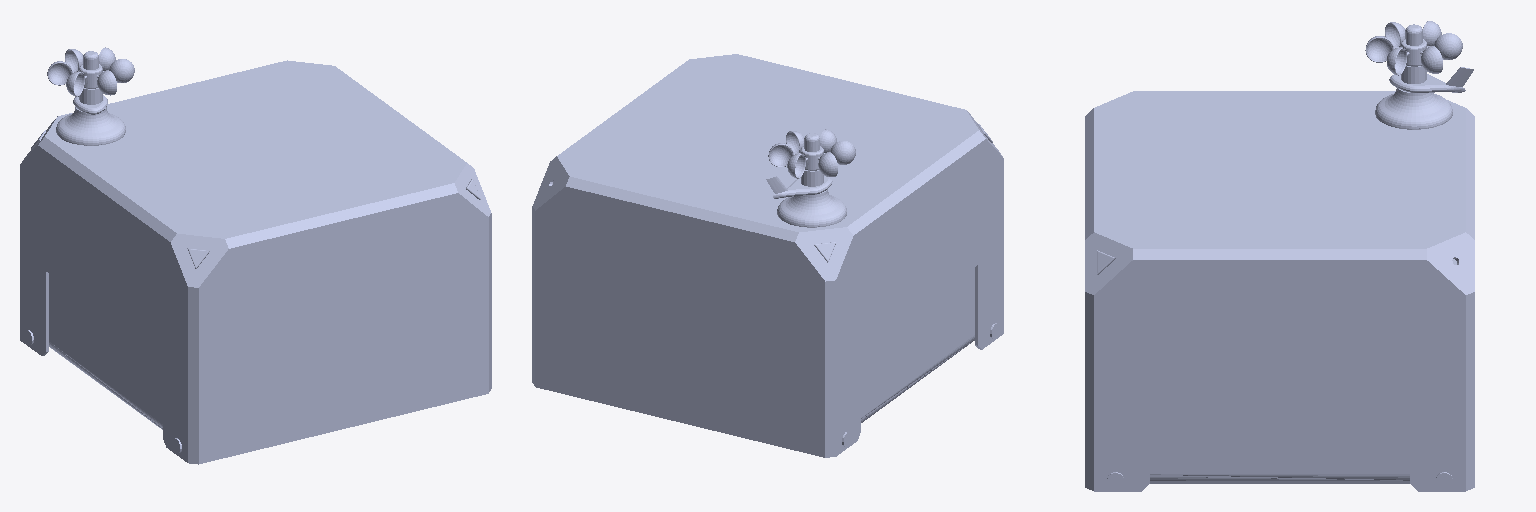
The robot description file, URDF, robot "dock_urdf":
<?xml version="1.0" encoding="utf-8"?>
<!-- This URDF was automatically created by SolidWorks to URDF Exporter! Originally created by [author] ([email redacted]) 
     Commit Version: 1.6.0-4-g7f85cfe  Build Version: 1.6.7995.38578
     For more information, please see http://wiki.ros.org/sw_urdf_exporter -->
<robot
  name="dock_urdf">
  <link
    name="dock">
    <inertial>
      <origin
        xyz="1.53098380929678E-08 1.88894907528222E-09 0.1416088635467"
        rpy="0 0 0" />
      <mass
        value="221.642063932092" />
      <inertia
        ixx="14.3888919832394"
        ixy="8.11400503361738E-06"
        ixz="2.60235410602228E-07"
        iyy="14.4493861868399"
        iyz="-4.60593986193422E-08"
        izz="25.0893812892595" />
    </inertial>
    <visual>
      <origin
        xyz="0 0 0"
        rpy="0 0 0" />
      <geometry>
        <mesh
          filename="package://dock_urdf/meshes/dock.STL" />
      </geometry>
      <material
        name="">
        <color
          rgba="0.792156862745098 0.819607843137255 0.933333333333333 1" />
      </material>
    </visual>
    <collision>
      <origin
        xyz="0 0 0"
        rpy="0 0 0" />
      <geometry>
        <mesh
          filename="package://dock_urdf/meshes/dock.STL" />
      </geometry>
    </collision>
  </link>
  <link
    name="kapak1">
    <inertial>
      <origin
        xyz="0.38071628647954 -0.0597466314752524 -5.39655762561906E-16"
        rpy="0 0 0" />
      <mass
        value="12.7677857544327" />
      <inertia
        ixx="1.56961849979609"
        ixy="0.164172475158162"
        ixz="8.88243019103634E-16"
        iyy="1.76053077830025"
        iyz="2.82445628422628E-16"
        izz="0.717480266895053" />
    </inertial>
    <visual>
      <origin
        xyz="0 0 0"
        rpy="0 0 0" />
      <geometry>
        <mesh
          filename="package://dock_urdf/meshes/kapak1.STL" />
      </geometry>
      <material
        name="">
        <color
          rgba="0.792156862745098 0.819607843137255 0.933333333333333 1" />
      </material>
    </visual>
    <collision>
      <origin
        xyz="0 0 0"
        rpy="0 0 0" />
      <geometry>
        <mesh
          filename="package://dock_urdf/meshes/kapak1.STL" />
      </geometry>
    </collision>
  </link>
  <joint
    name="kapak1j"
    type="revolute">
    <origin
      xyz="0 -0.38 0.04"
      rpy="1.5708 -1.5662 1.5708" />
    <parent
      link="dock" />
    <child
      link="kapak1" />
    <axis
      xyz="0 0 1" />
    <limit
      lower="0"
      upper="3.14"
      effort="20"
      velocity="20" />
    <dynamics
      damping="10"
      friction="10" />
  </joint>
  <link
    name="led1">
    <inertial>
      <origin
        xyz="0.537452153064489 0.0300301151855205 0.407583283875497"
        rpy="0 0 0" />
      <mass
        value="0.00928715134328799" />
      <inertia
        ixx="1.61741852200739E-06"
        ixy="3.80021202161176E-07"
        ixz="3.78303059399376E-07"
        iyy="1.62433827054458E-06"
        iyz="3.81762969515149E-07"
        izz="1.62087839627598E-06" />
    </inertial>
    <visual>
      <origin
        xyz="0 0 0"
        rpy="0 0 0" />
      <geometry>
        <mesh
          filename="package://dock_urdf/meshes/led1.STL" />
      </geometry>
      <material
        name="">
        <color
          rgba="0.792156862745098 0.819607843137255 0.933333333333333 1" />
      </material>
    </visual>
    <collision>
      <origin
        xyz="0 0 0"
        rpy="0 0 0" />
      <geometry>
        <mesh
          filename="package://dock_urdf/meshes/led1.STL" />
      </geometry>
    </collision>
  </link>
  <joint
    name="led1j"
    type="fixed">
    <origin
      xyz="0 0 0"
      rpy="0 0 0" />
    <parent
      link="kapak1" />
    <child
      link="led1" />
    <axis
      xyz="0 0 0" />
  </joint>
  <link
    name="led2">
    <inertial>
      <origin
        xyz="0.53745215306449 0.0300301151855202 -0.407583283875497"
        rpy="0 0 0" />
      <mass
        value="0.00928715134328777" />
      <inertia
        ixx="1.61741852200734E-06"
        ixy="3.80021202161163E-07"
        ixz="-3.78303059399364E-07"
        iyy="1.62433827054451E-06"
        iyz="-3.81762969515137E-07"
        izz="1.62087839627593E-06" />
    </inertial>
    <visual>
      <origin
        xyz="0 0 0"
        rpy="0 0 0" />
      <geometry>
        <mesh
          filename="package://dock_urdf/meshes/led2.STL" />
      </geometry>
      <material
        name="">
        <color
          rgba="0.792156862745098 0.819607843137255 0.933333333333333 1" />
      </material>
    </visual>
    <collision>
      <origin
        xyz="0 0 0"
        rpy="0 0 0" />
      <geometry>
        <mesh
          filename="package://dock_urdf/meshes/led2.STL" />
      </geometry>
    </collision>
  </link>
  <joint
    name="led2j"
    type="fixed">
    <origin
      xyz="0 0 0"
      rpy="0 0 0" />
    <parent
      link="kapak1" />
    <child
      link="led2" />
    <axis
      xyz="0 0 0" />
  </joint>
  <link
    name="kapak2">
    <inertial>
      <origin
        xyz="0.38071628647954 -0.0597466314752527 1.73003358513501E-16"
        rpy="0 0 0" />
      <mass
        value="12.7677857544327" />
      <inertia
        ixx="1.56961849979609"
        ixy="0.164172475158163"
        ixz="-2.84794850048265E-16"
        iyy="1.76053077830025"
        iyz="-9.54792977679875E-16"
        izz="0.717480266895053" />
    </inertial>
    <visual>
      <origin
        xyz="0 0 0"
        rpy="0 0 0" />
      <geometry>
        <mesh
          filename="package://dock_urdf/meshes/kapak2.STL" />
      </geometry>
      <material
        name="">
        <color
          rgba="0.792156862745098 0.819607843137255 0.933333333333333 1" />
      </material>
    </visual>
    <collision>
      <origin
        xyz="0 0 0"
        rpy="0 0 0" />
      <geometry>
        <mesh
          filename="package://dock_urdf/meshes/kapak2.STL" />
      </geometry>
    </collision>
  </link>
  <joint
    name="kapak2j"
    type="revolute">
    <origin
      xyz="0 0.38 0.04"
      rpy="1.5708 -1.5662 -1.5708" />
    <parent
      link="dock" />
    <child
      link="kapak2" />
    <axis
      xyz="0 0 1" />
    <limit
      lower="0"
      upper="3.14"
      effort="20"
      velocity="20" />
    <dynamics
      damping="10"
      friction="10" />
  </joint>
  <link
    name="led3">
    <inertial>
      <origin
        xyz="0.53745215306449 0.0300301151855201 -0.407583283875497"
        rpy="0 0 0" />
      <mass
        value="0.00928715134328799" />
      <inertia
        ixx="1.61741852200739E-06"
        ixy="3.80021202161172E-07"
        ixz="-3.78303059399381E-07"
        iyy="1.62433827054456E-06"
        iyz="-3.81762969515148E-07"
        izz="1.62087839627598E-06" />
    </inertial>
    <visual>
      <origin
        xyz="0 0 0"
        rpy="0 0 0" />
      <geometry>
        <mesh
          filename="package://dock_urdf/meshes/led3.STL" />
      </geometry>
      <material
        name="">
        <color
          rgba="0.792156862745098 0.819607843137255 0.933333333333333 1" />
      </material>
    </visual>
    <collision>
      <origin
        xyz="0 0 0"
        rpy="0 0 0" />
      <geometry>
        <mesh
          filename="package://dock_urdf/meshes/led3.STL" />
      </geometry>
    </collision>
  </link>
  <joint
    name="led3j"
    type="fixed">
    <origin
      xyz="0 0 0"
      rpy="0 0 0" />
    <parent
      link="kapak2" />
    <child
      link="led3" />
    <axis
      xyz="0 0 0" />
  </joint>
  <link
    name="led4">
    <inertial>
      <origin
        xyz="0.53745215306449 0.0300301151855208 0.407583283875497"
        rpy="0 0 0" />
      <mass
        value="0.00928715134328795" />
      <inertia
        ixx="1.61741852200738E-06"
        ixy="3.80021202161171E-07"
        ixz="3.78303059399377E-07"
        iyy="1.62433827054457E-06"
        iyz="3.81762969515146E-07"
        izz="1.62087839627597E-06" />
    </inertial>
    <visual>
      <origin
        xyz="0 0 0"
        rpy="0 0 0" />
      <geometry>
        <mesh
          filename="package://dock_urdf/meshes/led4.STL" />
      </geometry>
      <material
        name="">
        <color
          rgba="0.792156862745098 0.819607843137255 0.933333333333333 1" />
      </material>
    </visual>
    <collision>
      <origin
        xyz="0 0 0"
        rpy="0 0 0" />
      <geometry>
        <mesh
          filename="package://dock_urdf/meshes/led4.STL" />
      </geometry>
    </collision>
  </link>
  <joint
    name="led4j"
    type="fixed">
    <origin
      xyz="0 0 0"
      rpy="0 0 0" />
    <parent
      link="kapak2" />
    <child
      link="led4" />
    <axis
      xyz="0 0 0" />
  </joint>
  <link
    name="ruzgar_sensor_base">
    <inertial>
      <origin
        xyz="0 0.0487231579047638 0.00148310559230103"
        rpy="0 0 0" />
      <mass
        value="1.18732993372864" />
      <inertia
        ixx="0.00455680543149085"
        ixy="-9.42191344692347E-19"
        ixz="2.1320081222918E-19"
        iyy="0.00264545380996607"
        iyz="5.0591248097901E-20"
        izz="0.00455680543149085" />
    </inertial>
    <visual>
      <origin
        xyz="0 0 0"
        rpy="0 0 0" />
      <geometry>
        <mesh
          filename="package://dock_urdf/meshes/ruzgar_sensor_base.STL" />
      </geometry>
      <material
        name="">
        <color
          rgba="0.792156862745098 0.819607843137255 0.933333333333333 1" />
      </material>
    </visual>
    <collision>
      <origin
        xyz="0 0 0"
        rpy="0 0 0" />
      <geometry>
        <mesh
          filename="package://dock_urdf/meshes/ruzgar_sensor_base.STL" />
      </geometry>
    </collision>
  </link>
  <joint
    name="ruzgar_sensor_basej"
    type="fixed">
    <origin
      xyz="0.580305884522783 -0.0658759835410427 0.31"
      rpy="1.56624424041562 1.5707963267949 0" />
    <parent
      link="kapak2" />
    <child
      link="ruzgar_sensor_base" />
    <axis
      xyz="0 0 0" />
  </joint>
  <link
    name="ruzgar_yon">
    <inertial>
      <origin
        xyz="0.00978231572159183 0.0811603141304763 -0.0226235754368227"
        rpy="0 0 0" />
      <mass
        value="0.113590911898958" />
      <inertia
        ixx="0.000240538234297469"
        ixy="-8.26664641782349E-06"
        ixz="7.33071560091437E-05"
        iyy="0.000307897528722735"
        iyz="2.03732552183374E-05"
        izz="8.96310134141615E-05" />
    </inertial>
    <visual>
      <origin
        xyz="0 0 0"
        rpy="0 0 0" />
      <geometry>
        <mesh
          filename="package://dock_urdf/meshes/ruzgar_yon.STL" />
      </geometry>
      <material
        name="">
        <color
          rgba="0.792156862745098 0.819607843137255 0.933333333333333 1" />
      </material>
    </visual>
    <collision>
      <origin
        xyz="0 0 0"
        rpy="0 0 0" />
      <geometry>
        <mesh
          filename="package://dock_urdf/meshes/ruzgar_yon.STL" />
      </geometry>
    </collision>
  </link>
  <joint
    name="ruzgar_yonj"
    type="continuous">
    <origin
      xyz="0 0 0"
      rpy="0 0 0" />
    <parent
      link="ruzgar_sensor_base" />
    <child
      link="ruzgar_yon" />
    <axis
      xyz="0 -0.999996729681196 0.00255746493860432" />
    <dynamics
      damping="2"
      friction="2" />
  </joint>
  <link
    name="ruzgar_hiz">
    <inertial>
      <origin
        xyz="-2.97654567660288E-10 0.162423504616449 0.00148310580928518"
        rpy="0 0 0" />
      <mass
        value="0.19598557480847" />
      <inertia
        ixx="0.000488176996259168"
        ixy="2.97200230206971E-13"
        ixz="-3.52053096455437E-12"
        iyy="0.000857473774358662"
        iyz="-6.05402790730509E-13"
        izz="0.000488177000674045" />
    </inertial>
    <visual>
      <origin
        xyz="0 0 0"
        rpy="0 0 0" />
      <geometry>
        <mesh
          filename="package://dock_urdf/meshes/ruzgar_hiz.STL" />
      </geometry>
      <material
        name="">
        <color
          rgba="0.792156862745098 0.819607843137255 0.933333333333333 1" />
      </material>
    </visual>
    <collision>
      <origin
        xyz="0 0 0"
        rpy="0 0 0" />
      <geometry>
        <mesh
          filename="package://dock_urdf/meshes/ruzgar_hiz.STL" />
      </geometry>
    </collision>
  </link>
  <joint
    name="ruzgar_hizj"
    type="continuous">
    <origin
      xyz="0 0 0"
      rpy="0 0 0" />
    <parent
      link="ruzgar_sensor_base" />
    <child
      link="ruzgar_hiz" />
    <axis
      xyz="0 -0.999996729681196 0.00255746493860432" />
    <dynamics
      damping="2"
      friction="2" />
  </joint>
  <link
    name="arico">
    <inertial>
      <origin
        xyz="0.00459183673469364 -0.00357142857142857 0.3005"
        rpy="0 0 0" />
      <mass
        value="0.122402" />
      <inertia
        ixx="0.00185904326220213"
        ixy="-4.30506382978722E-05"
        ixz="2.42389469141833E-21"
        iyy="0.00184343076220213"
        iyz="1.13233724857214E-19"
        izz="0.00370245362407093" />
    </inertial>
    <visual>
      <origin
        xyz="0 0 0"
        rpy="0 0 0" />
      <geometry>
        <mesh
          filename="package://dock_urdf/meshes/arico.STL" />
      </geometry>
      <material
        name="">
        <color
          rgba="0.792156862745098 0.819607843137255 0.933333333333333 1" />
      </material>
    </visual>
    <collision>
      <origin
        xyz="0 0 0"
        rpy="0 0 0" />
      <geometry>
        <mesh
          filename="package://dock_urdf/meshes/arico.STL" />
      </geometry>
    </collision>
  </link>
  <joint
    name="aricoj"
    type="fixed">
    <origin
      xyz="0 0 0"
      rpy="0 0 0" />
    <parent
      link="dock" />
    <child
      link="arico" />
    <axis
      xyz="0 0 0" />
  </joint>
  <link
    name="aricobeyaz">
    <inertial>
      <origin
        xyz="-0.0150000000000002 0.0116666666666667 0.3005"
        rpy="0 0 0" />
      <mass
        value="0.03747" />
      <inertia
        ixx="2.96548675E-05"
        ixy="6.24500000000001E-06"
        ixz="-3.87180301601606E-22"
        iyy="2.02873675E-05"
        iyz="1.81351409246187E-21"
        izz="4.99359900000001E-05" />
    </inertial>
    <visual>
      <origin
        xyz="0 0 0"
        rpy="0 0 0" />
      <geometry>
        <mesh
          filename="package://dock_urdf/meshes/aricobeyaz.STL" />
      </geometry>
      <material
        name="">
        <color
          rgba="0.792156862745098 0.819607843137255 0.933333333333333 1" />
      </material>
    </visual>
    <collision>
      <origin
        xyz="0 0 0"
        rpy="0 0 0" />
      <geometry>
        <mesh
          filename="package://dock_urdf/meshes/aricobeyaz.STL" />
      </geometry>
    </collision>
  </link>
  <joint
    name="aricobeyazj"
    type="fixed">
    <origin
      xyz="0 0 0"
      rpy="0 0 0" />
    <parent
      link="dock" />
    <child
      link="aricobeyaz" />
    <axis
      xyz="0 0 0" />
  </joint>
</robot>

--- What the picture shows (computed from the rendered views, not written in the file) ---
3 views of the same robot in one strip: view 1: azimuth 30°, elevation 25°; view 2: azimuth 150°, elevation 25°; view 3: azimuth 270°, elevation 25° (orthographic).
Model dock_urdf with 12 links and 11 joints (2 revolute, 2 continuous, 7 fixed), rooted at dock, posed every joint at zero.
Visible links, largest first — view 1: kapak1, kapak2, dock, ruzgar_hiz, ruzgar_sensor_base; view 2: kapak2, kapak1, dock, ruzgar_hiz, ruzgar_sensor_base, ruzgar_yon; view 3: kapak1, kapak2, dock, ruzgar_hiz, ruzgar_sensor_base, ruzgar_yon.
Link boxes in pixels (bbox=[...]): kapak1: bbox=[104, 114, 491, 464]; kapak2: bbox=[20, 60, 399, 355]; dock: bbox=[25, 274, 181, 453]; ruzgar_hiz: bbox=[47, 47, 134, 96]; ruzgar_sensor_base: bbox=[56, 51, 125, 145]; kapak2: bbox=[532, 108, 919, 457]; kapak1: bbox=[623, 54, 1003, 349]; dock: bbox=[842, 267, 998, 446]; ruzgar_hiz: bbox=[768, 129, 855, 178]; ruzgar_sensor_base: bbox=[777, 133, 846, 227]; ruzgar_yon: bbox=[766, 176, 832, 198]; kapak1: bbox=[1085, 91, 1279, 491]; kapak2: bbox=[1280, 91, 1474, 491]; dock: bbox=[1107, 259, 1456, 487]; ruzgar_hiz: bbox=[1365, 21, 1462, 75]; ruzgar_sensor_base: bbox=[1375, 24, 1452, 129]; ruzgar_yon: bbox=[1389, 67, 1473, 92].
Size in the robot's own frame: 0.91 by 0.9 by 0.881 metres.
Meshes: 12 distinct files referenced, 11 mesh visuals loaded (11 binary STL); not drawn: 1 (reference not matched to a file when rendering).
